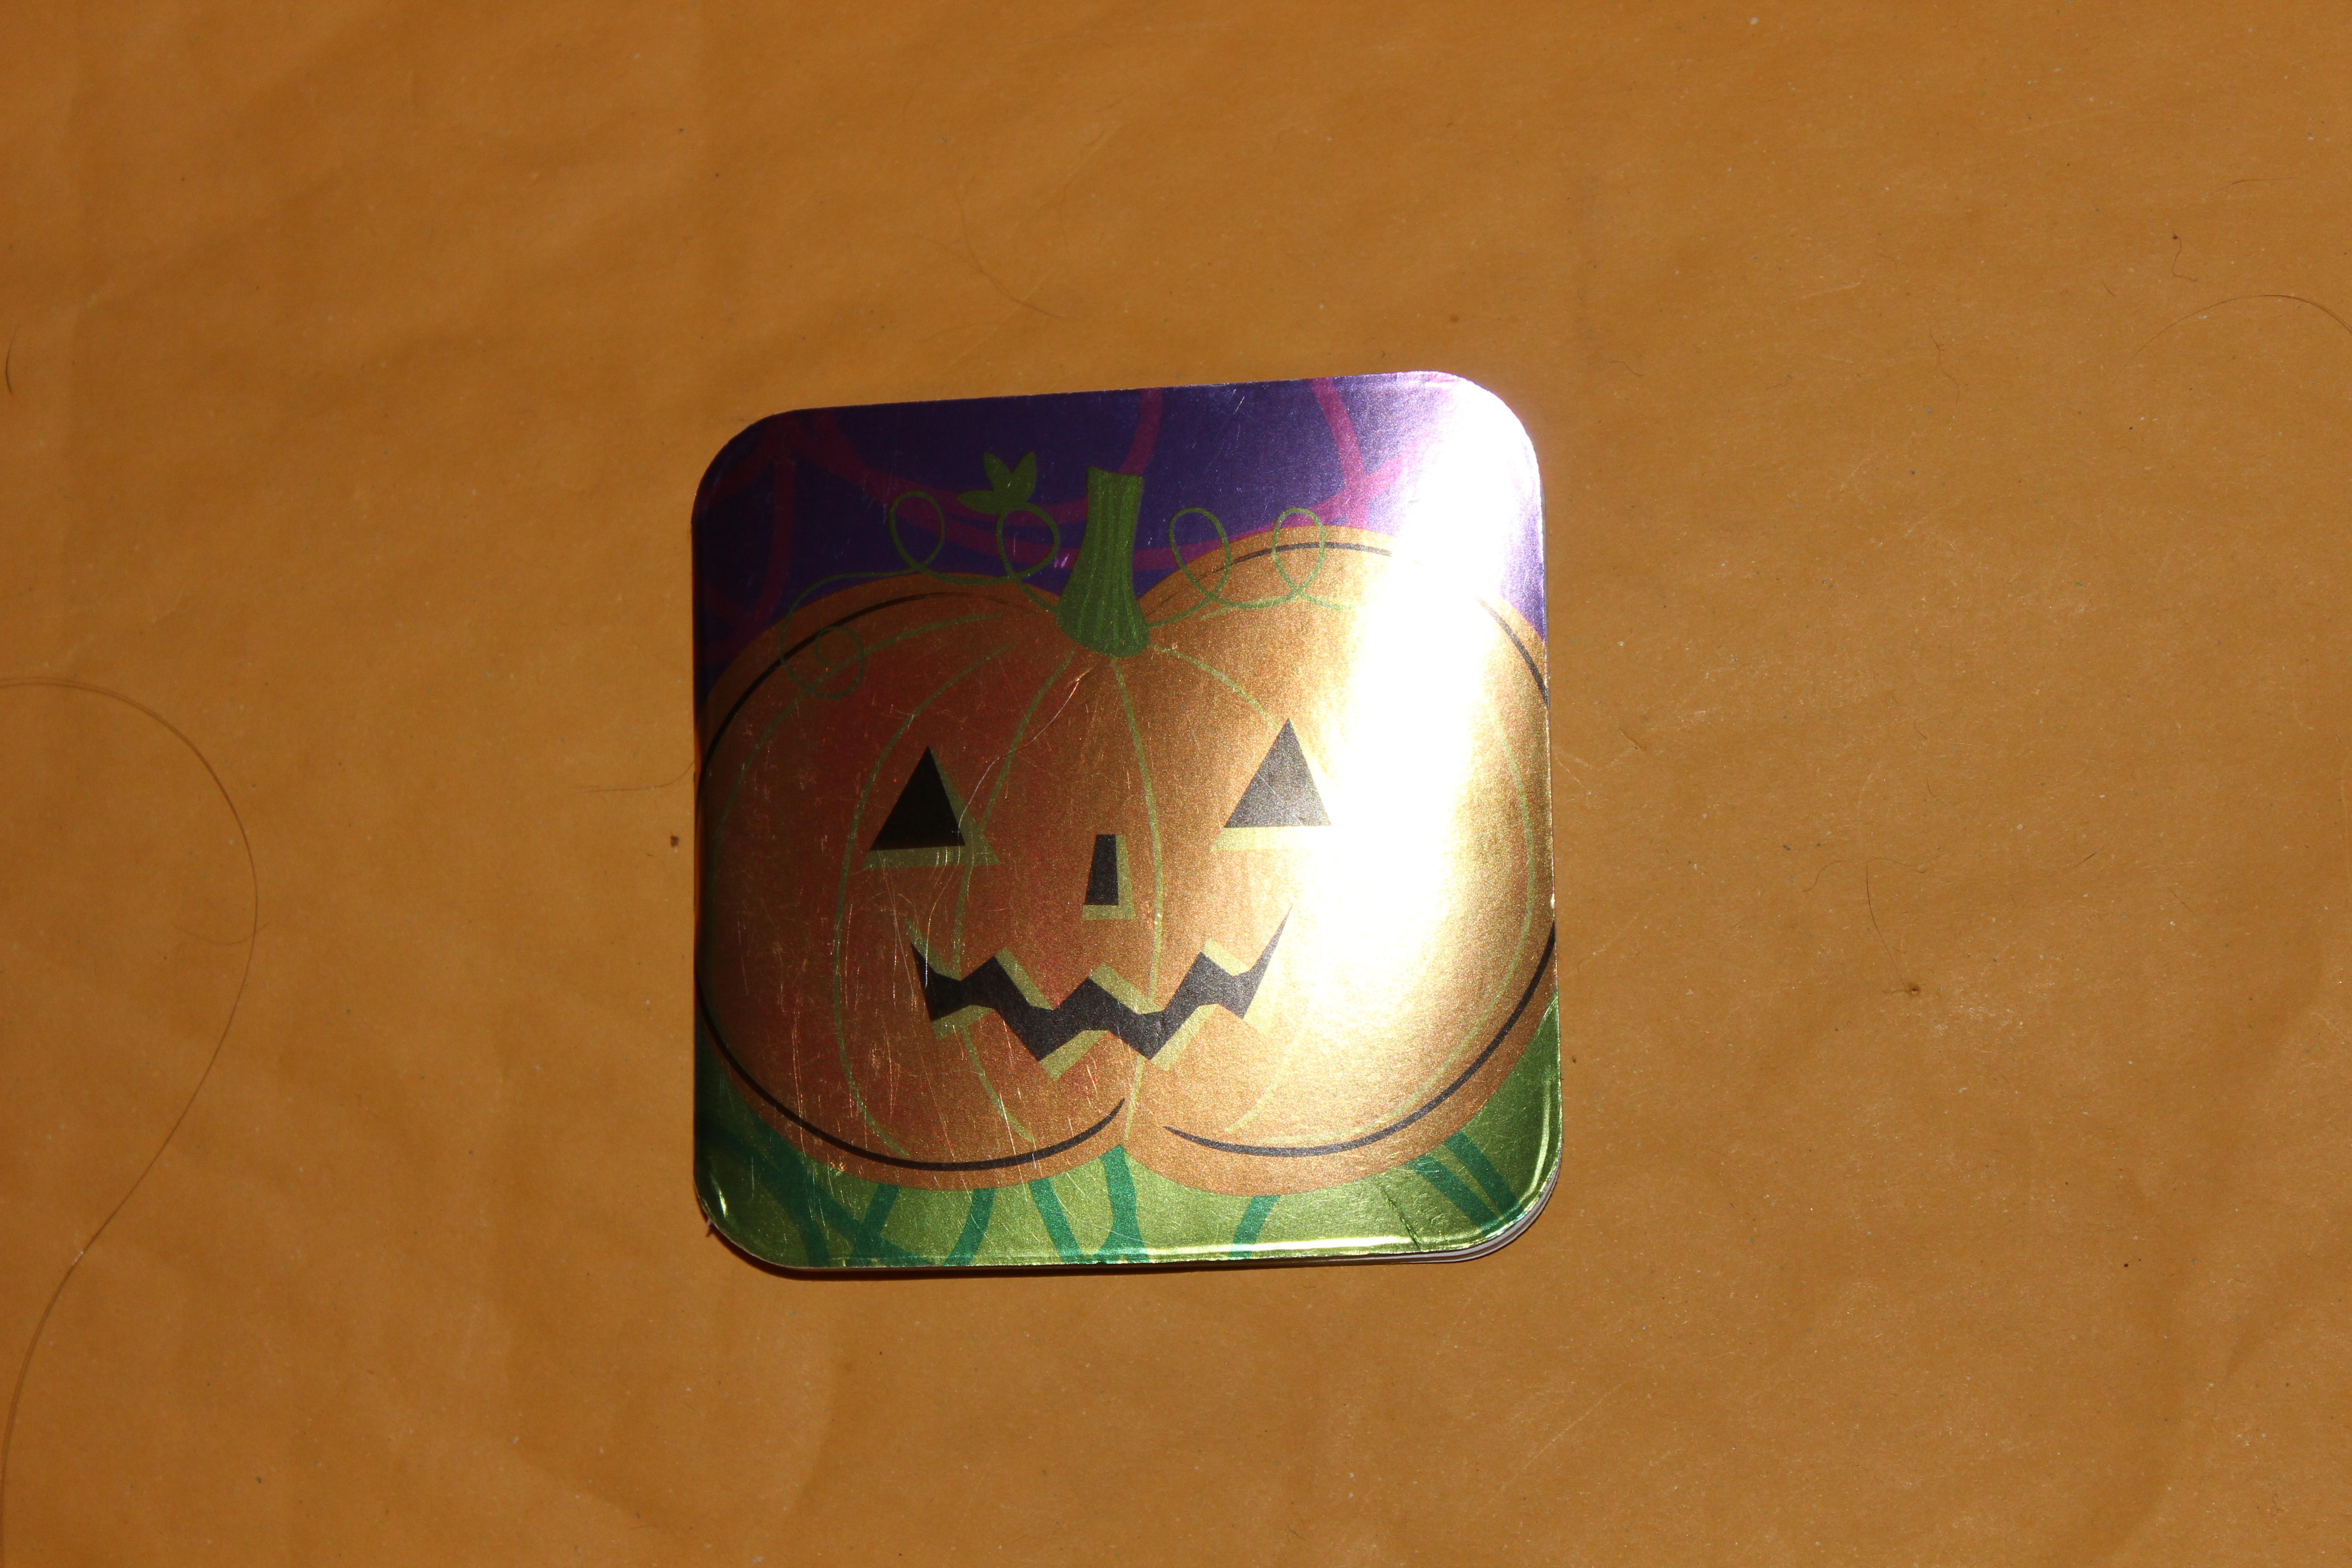pumpkinNotes: (651, 345, 1607, 1323)
